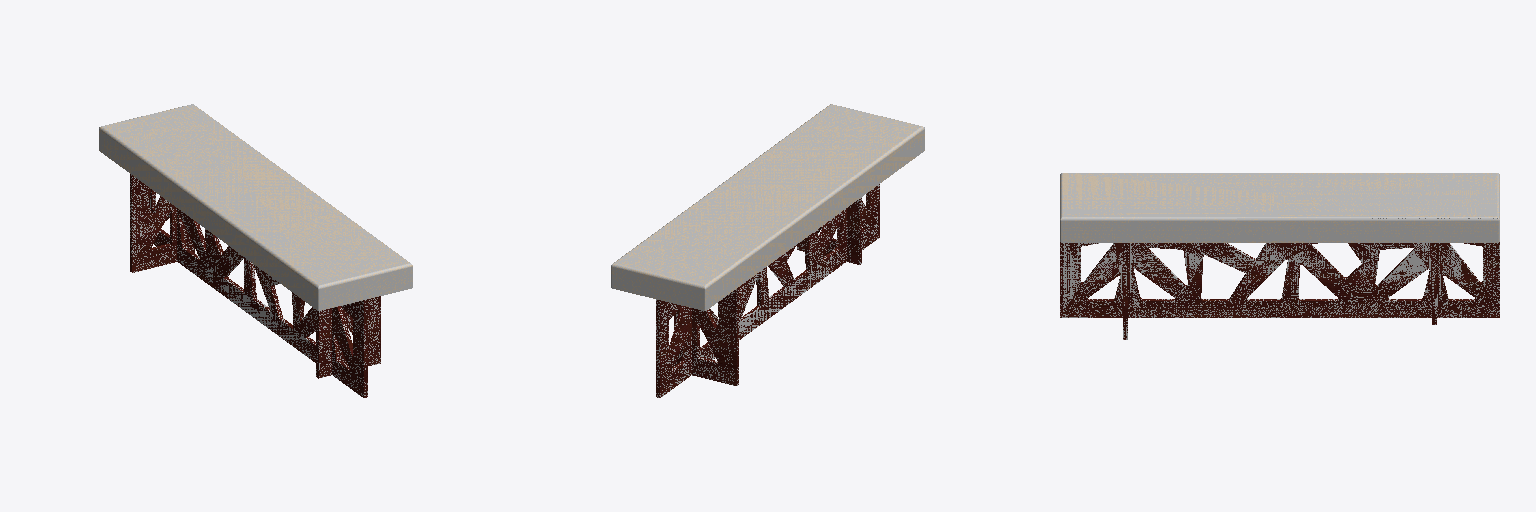
The picture shows the model from 3 angles: view 1: azimuth 30°, elevation 25°; view 2: azimuth 150°, elevation 25°; view 3: azimuth 270°, elevation 25°; orthographic projection.
Visible parts, largest first — view 1: mesh2.002_mesh2-geometry, mesh1.002_mesh1-geometry; view 2: mesh2.002_mesh2-geometry, mesh1.002_mesh1-geometry; view 3: mesh2.002_mesh2-geometry, mesh1.002_mesh1-geometry.
Boxes of the visible parts, <box> form: mesh2.002_mesh2-geometry: <box>99,104,412,310</box>; mesh1.002_mesh1-geometry: <box>130,174,380,397</box>; mesh2.002_mesh2-geometry: <box>611,104,924,310</box>; mesh1.002_mesh1-geometry: <box>656,184,879,397</box>; mesh2.002_mesh2-geometry: <box>1060,173,1499,242</box>; mesh1.002_mesh1-geometry: <box>1060,218,1499,339</box>.
Bounding box in the file's own units: 0.2324 × 0.2856 × 0.9297.
Materials: 4 (2 with a texture image).